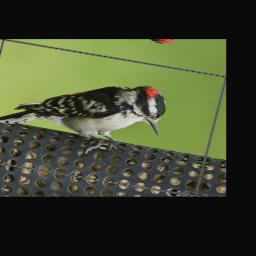Woodpecker: (0, 63, 174, 163)
